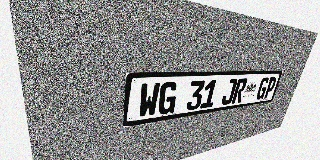1: (200, 80, 219, 109)
3: (186, 80, 206, 111)
G: (157, 82, 179, 115), (255, 77, 270, 100)
J: (220, 79, 238, 105)
P: (263, 77, 277, 99)
R: (231, 78, 248, 104)
W: (138, 82, 161, 118)
